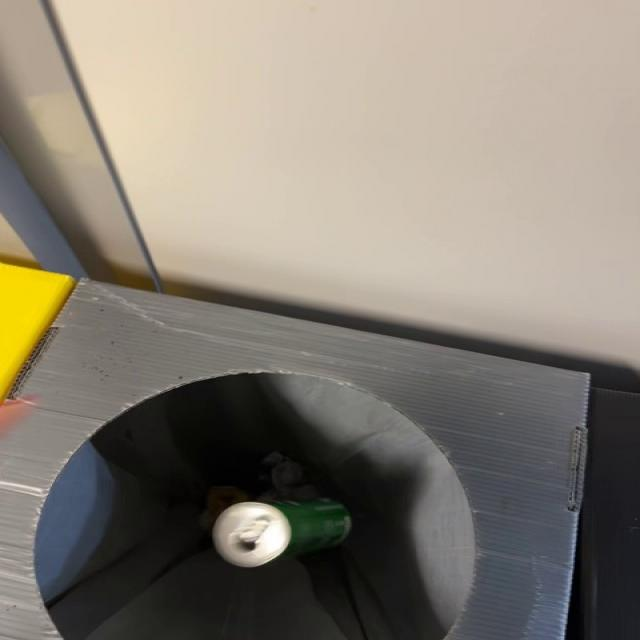bin: (1, 280, 588, 640)
metal: (212, 500, 352, 568)
